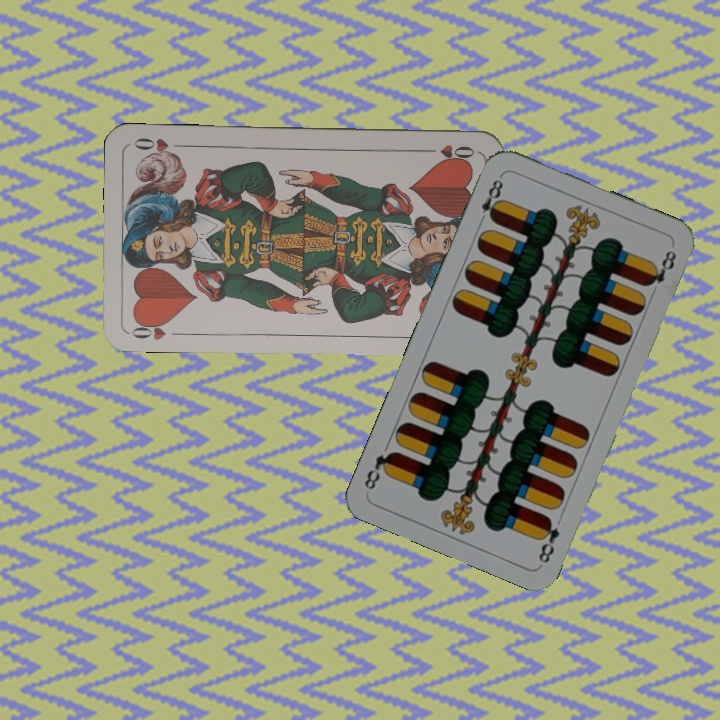E8: (475, 171, 506, 227), (534, 513, 562, 566)
HO: (126, 316, 185, 343), (419, 140, 477, 164)
